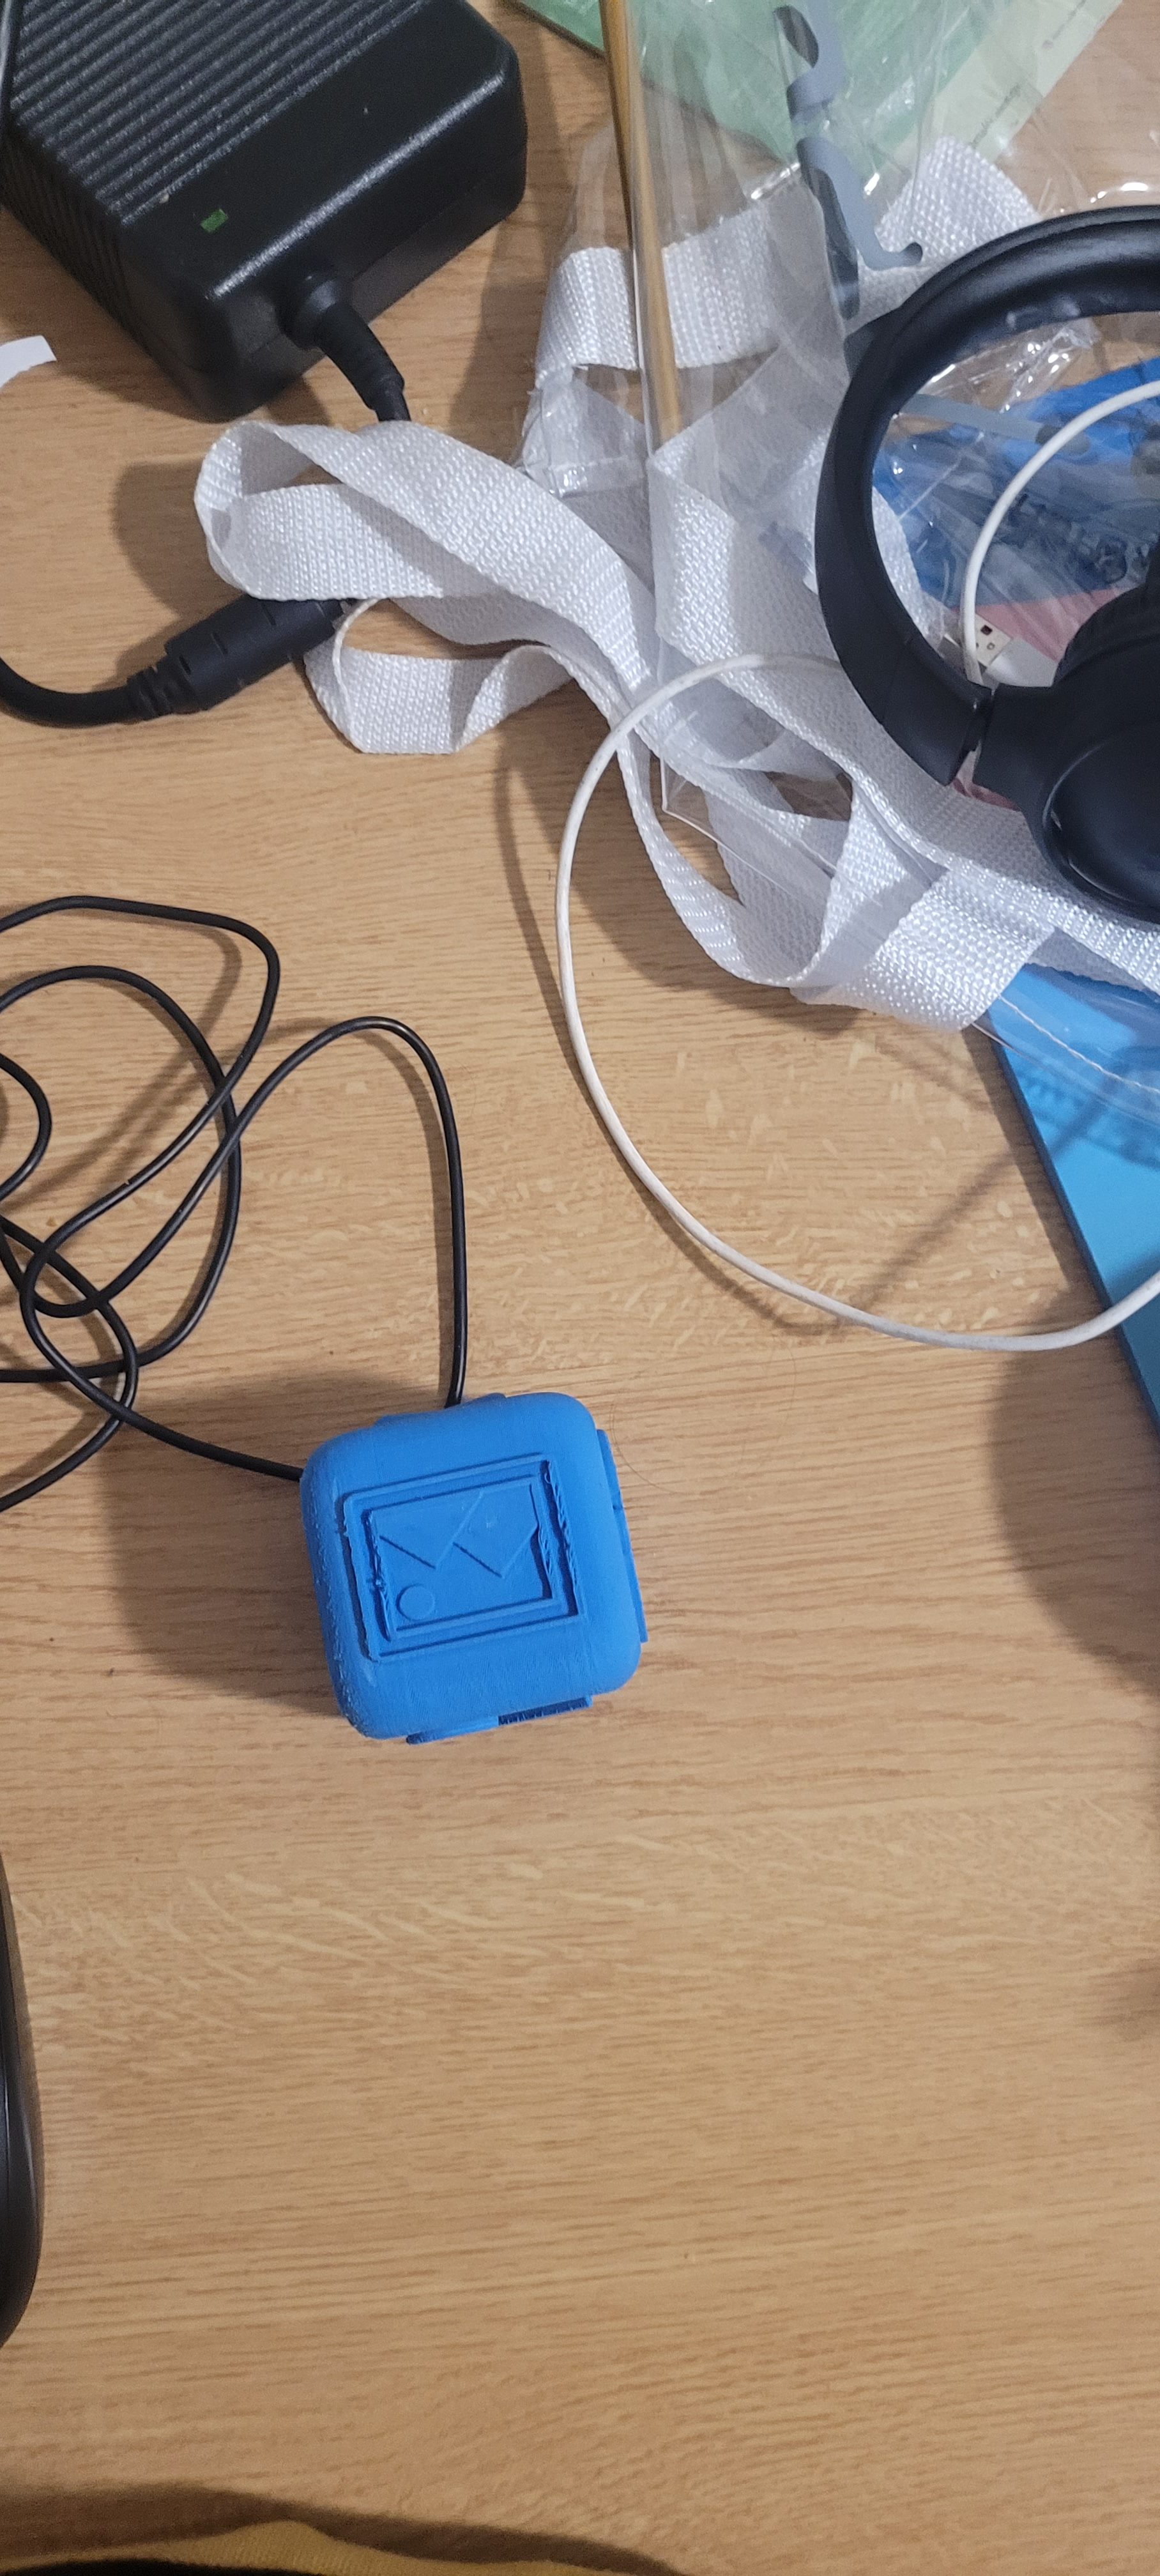Story: (320, 1477, 600, 1669), (976, 2149, 989, 2155)
